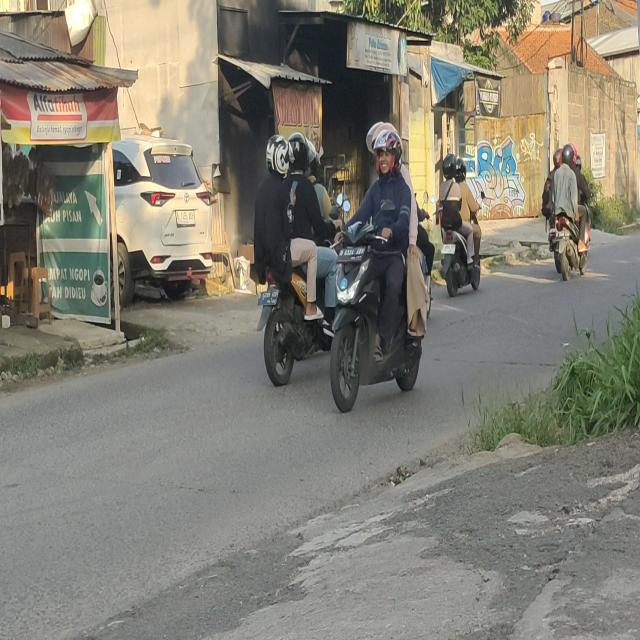helmet: (378, 134, 402, 175), (266, 135, 289, 176), (290, 133, 308, 169), (369, 125, 397, 148), (442, 154, 457, 181), (562, 144, 574, 167), (310, 150, 320, 176), (456, 158, 466, 182), (569, 142, 578, 164), (552, 148, 562, 167), (577, 155, 582, 171)
